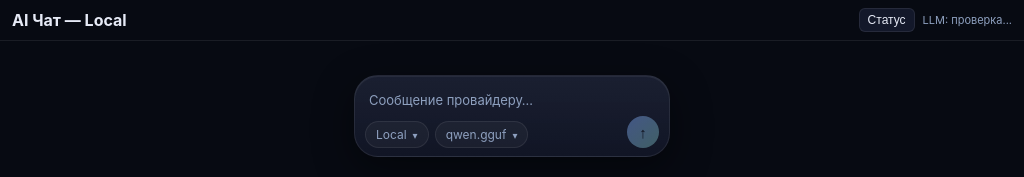
Test: ai_chat_renders_enabled_providers › lists enabled providers and hides disabled ones
Click the dropdown named "Провайдер".
click(397, 134)  # box [365,121,429,148]
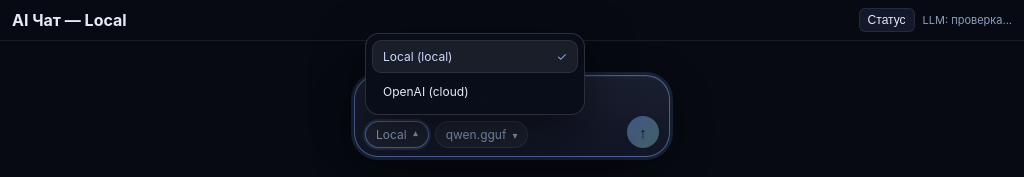
Check: the option "Local (local) ✓" is shown, box [372,40,578,73]
Check: the option "OpenAI (cloud)" is shown, box [383,84,468,99]
